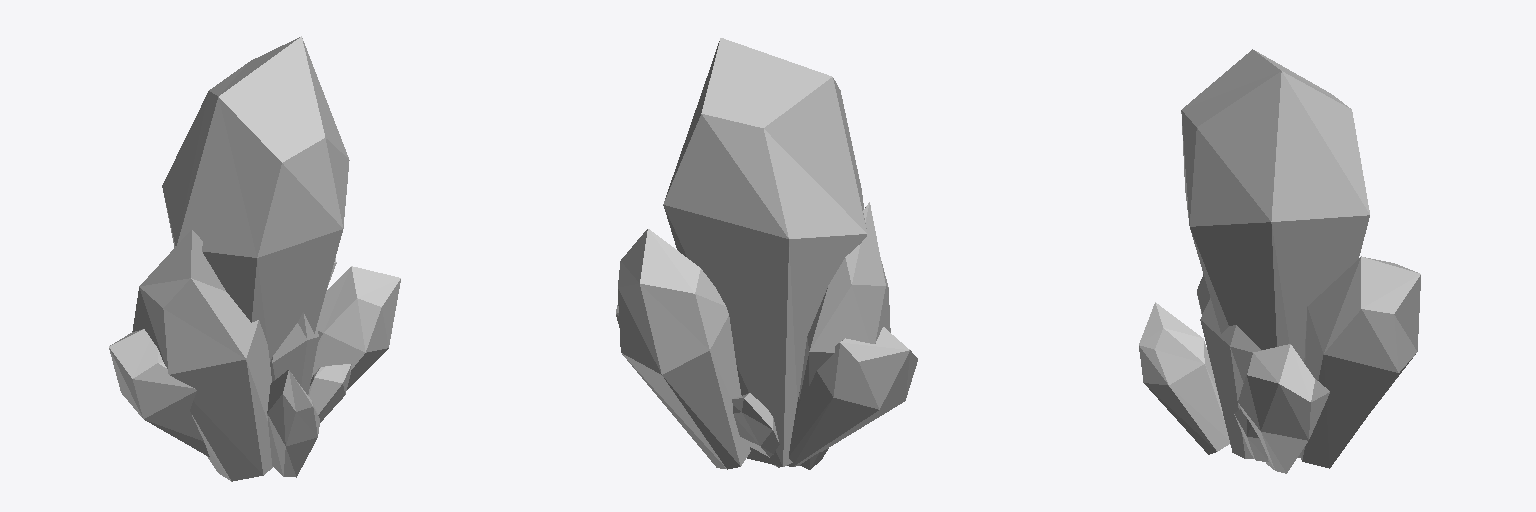
Rendered from oreon-cluster.obj.
3 renders of one model, left to right at view 1: azimuth 30°, elevation 25°; view 2: azimuth 150°, elevation 25°; view 3: azimuth 270°, elevation 25°, orthographic.
Visible parts, largest first — view 1: OreonCluster, OreonCluster2; view 2: OreonCluster, OreonCluster2; view 3: OreonCluster, OreonCluster2.
Part boxes in pixels (x1,y1,x2,y2): OreonCluster: (109,36,400,456); OreonCluster2: (132,230,351,481); OreonCluster: (616,38,917,469); OreonCluster2: (732,202,890,469); OreonCluster: (1181,49,1420,473); OreonCluster2: (1139,274,1268,461).
Bounding box in the file's own units: 3.88 × 5.31 × 3.27.